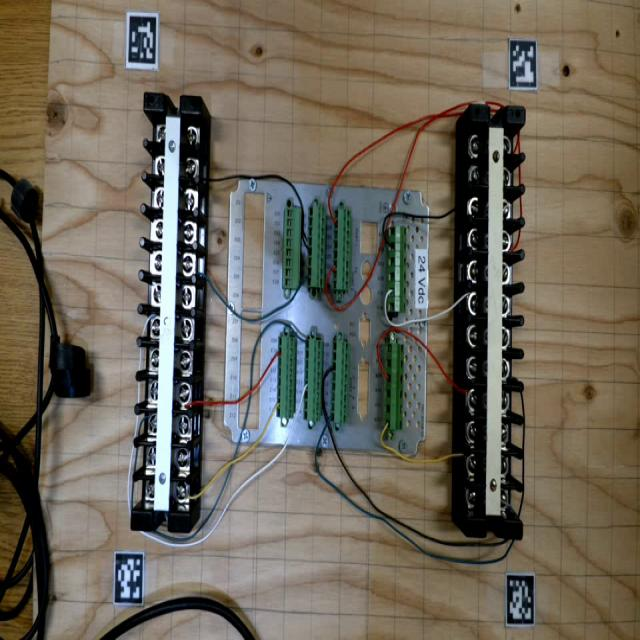Flathead_Block: (466, 105, 525, 540)
Phillips_Block: (131, 92, 202, 533)
Terminal_1: (384, 343, 404, 431), (387, 227, 407, 313)
Terminal_2: (303, 339, 323, 422), (330, 341, 350, 424), (307, 206, 326, 288), (332, 208, 351, 289), (277, 337, 295, 418)
